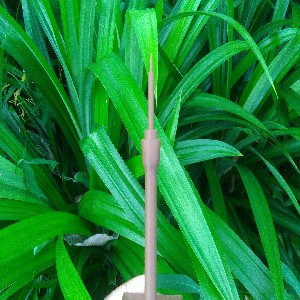solder: (140, 52, 162, 300)
